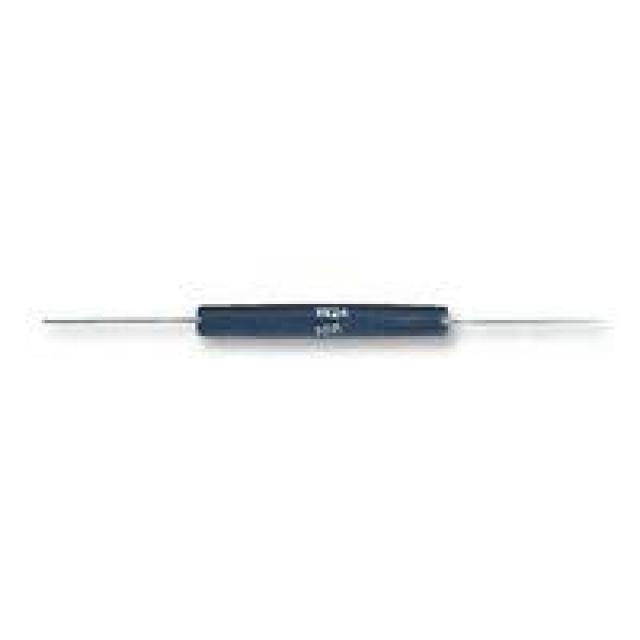Resistor: (187, 301, 453, 340)
